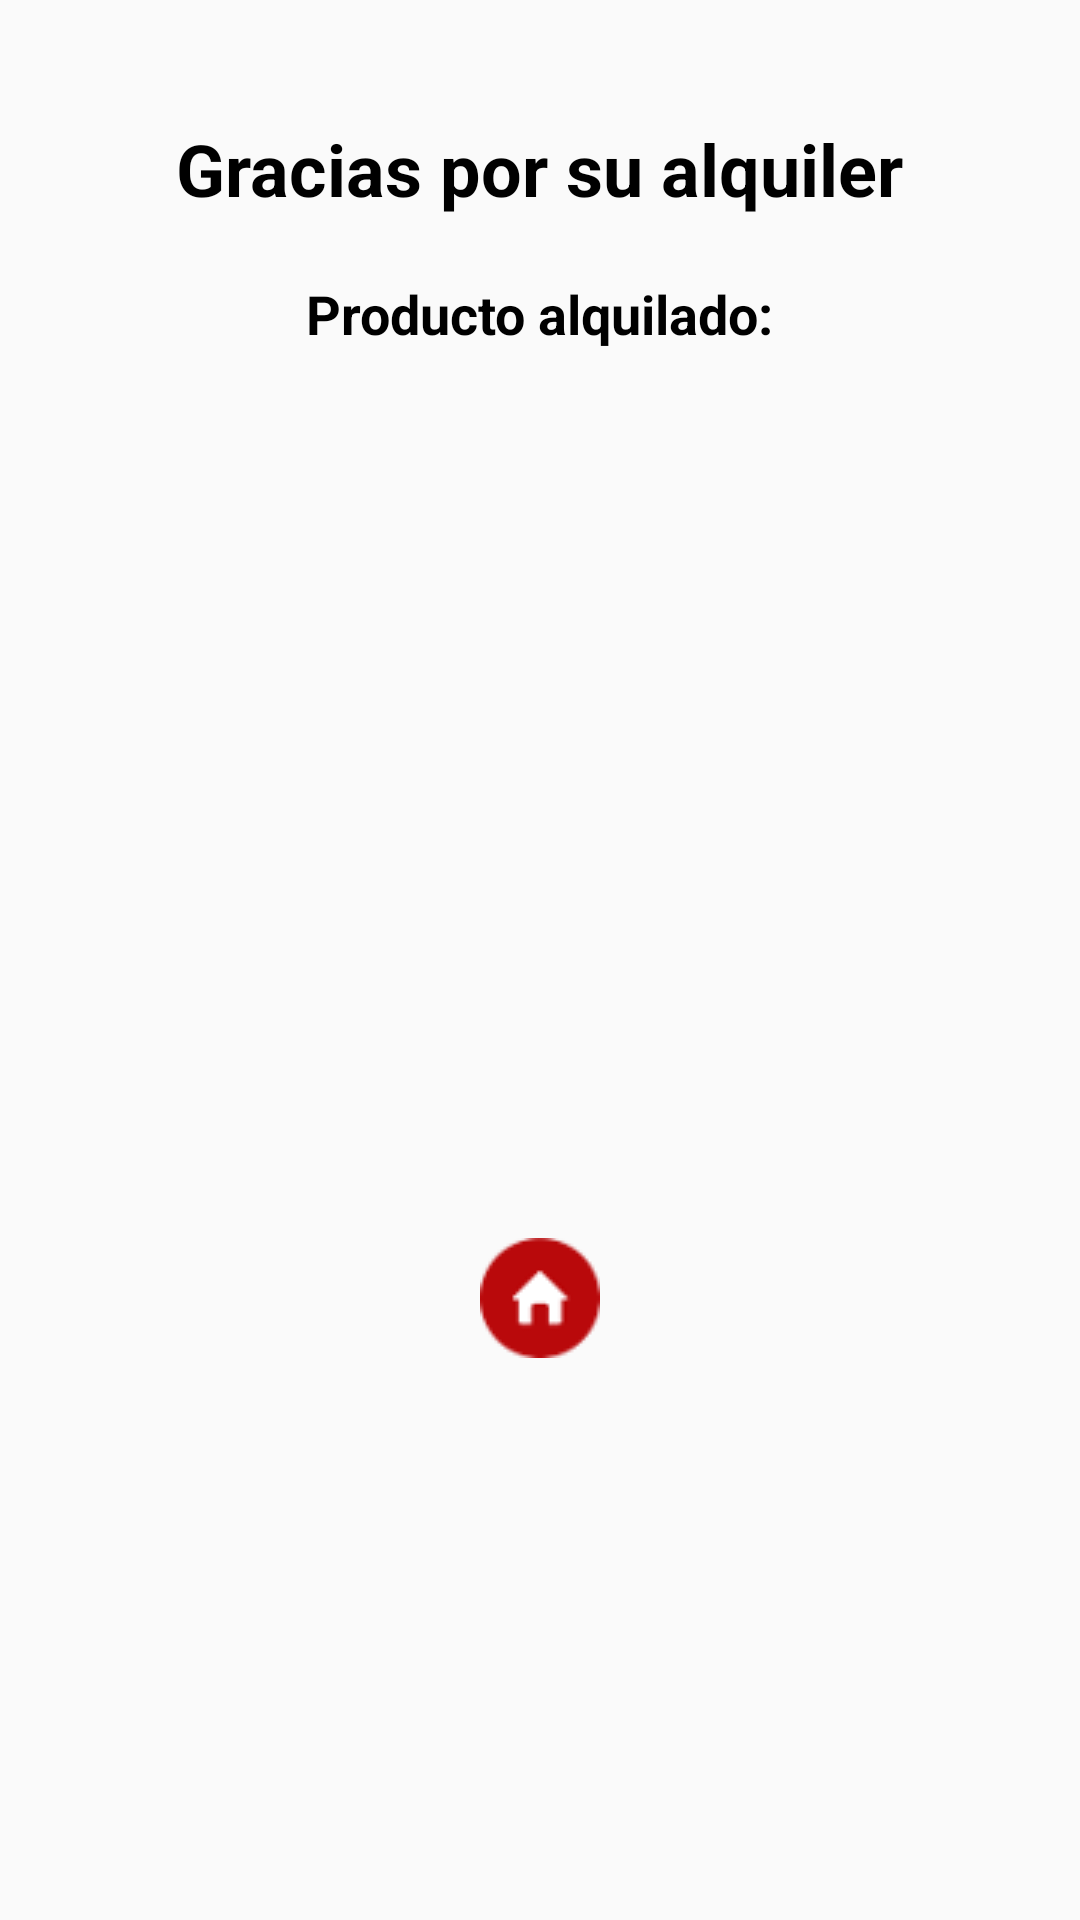

Where icons sit on this 1080w x 1920h app screen, as (x1, y1, x2, y2):
home: (480, 1238, 600, 1358)
